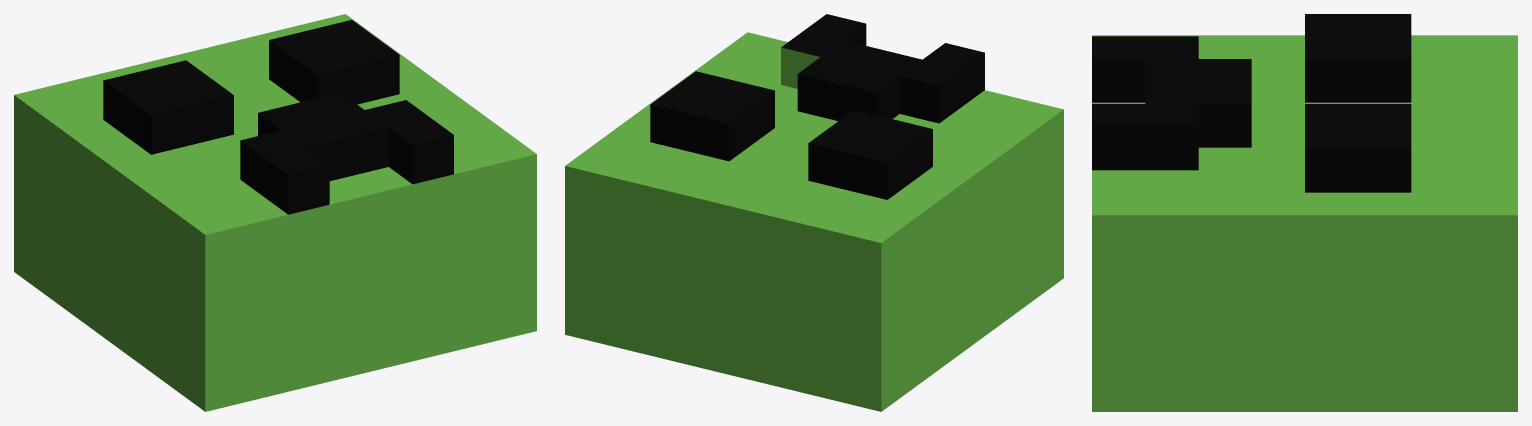
3 views of the same model, side by side, from view 1: azimuth 30°, elevation 25°; view 2: azimuth 150°, elevation 25°; view 3: azimuth 270°, elevation 25° (orthographic). The views are drawn at different scales.
Parts seen in each view (by area): view 1: Cube.002; view 2: Cube.002; view 3: Cube.002.
Boxes of the visible parts, x1,y1,x2,y2 form: Cube.002: [14, 14, 536, 411]; Cube.002: [565, 14, 1063, 411]; Cube.002: [1092, 14, 1517, 411].
Bounding box in the file's own units: 0.315 × 0.1964 × 0.315.
